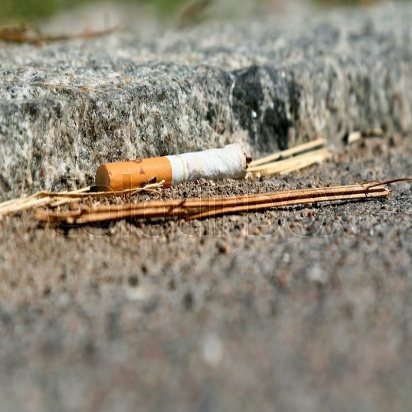cigarette: (89, 143, 253, 191)
